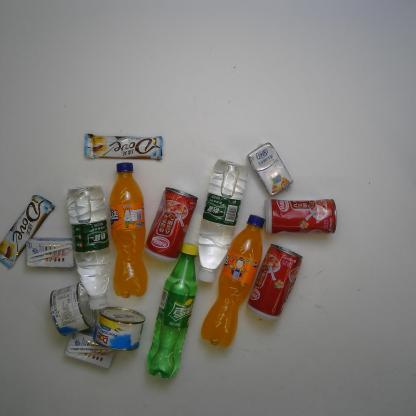Canned Food: (243, 241, 304, 324), (142, 184, 200, 266), (260, 195, 340, 238), (49, 280, 98, 338), (90, 304, 146, 353)
Chocolate: (2, 193, 57, 272), (80, 129, 166, 164)
Drink: (198, 213, 268, 351), (144, 239, 202, 381), (196, 156, 250, 285), (63, 184, 113, 312), (107, 161, 150, 302)
Milk: (245, 140, 295, 198), (62, 330, 118, 372), (22, 234, 78, 271)
